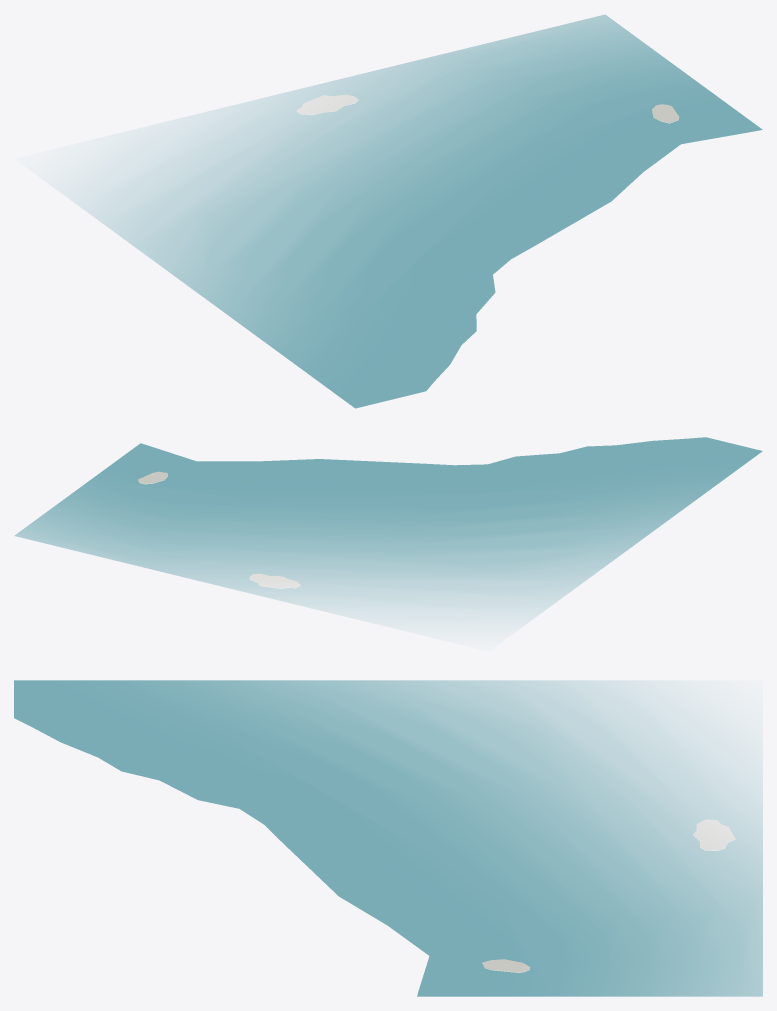
3 renders of one model, top to bottom at view 1: azimuth 30°, elevation 25°; view 2: azimuth 150°, elevation 25°; view 3: azimuth 270°, elevation 25°, orthographic. The views are drawn at different scales.
Visible parts, largest first — view 1: city; view 2: city; view 3: city.
Boxes of the visible parts, box(x1,y1,x2,y2) form: city: box(58, 14, 762, 408); city: box(14, 437, 762, 626); city: box(14, 680, 762, 996).
Bounding box in the file's own units: 500 × 0.18 × 500.
